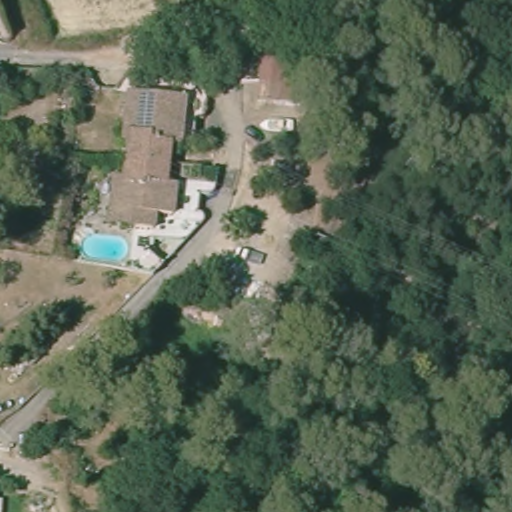pool: (78, 228, 131, 266)
